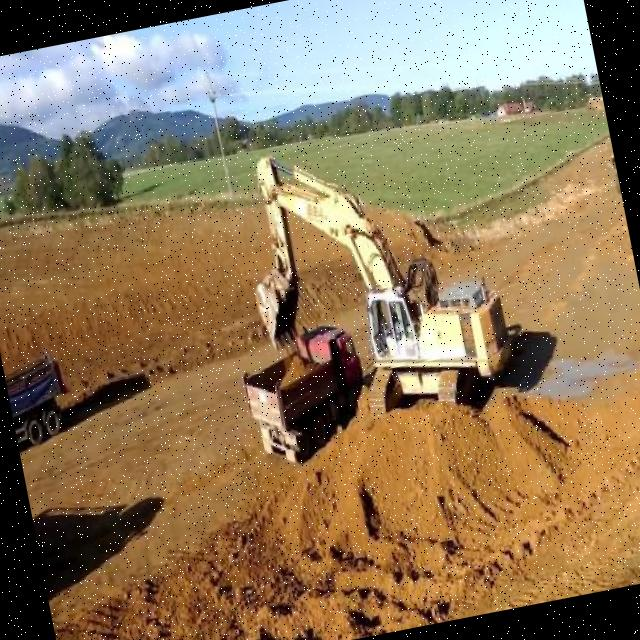Dump Truck: (232, 313, 384, 472), (2, 340, 78, 452)
Excavator: (224, 104, 522, 452)
